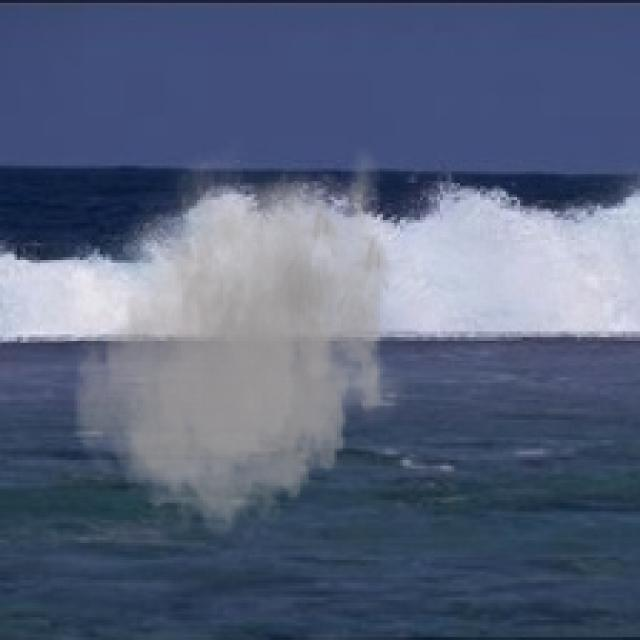smoke: (63, 137, 408, 549)
